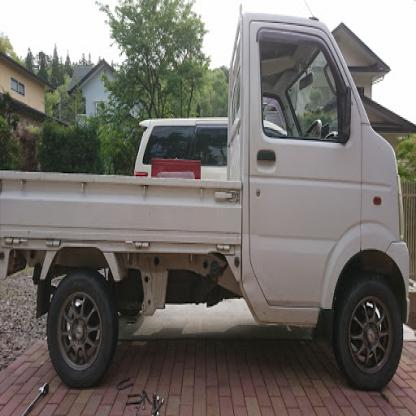Wheel hub: (58, 292, 102, 369), (349, 298, 392, 373)
